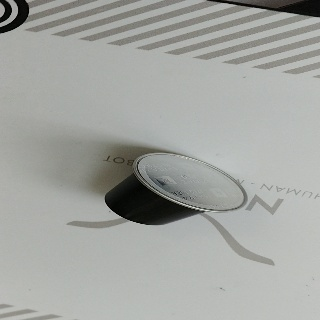capsule_10: (104, 150, 248, 226)
